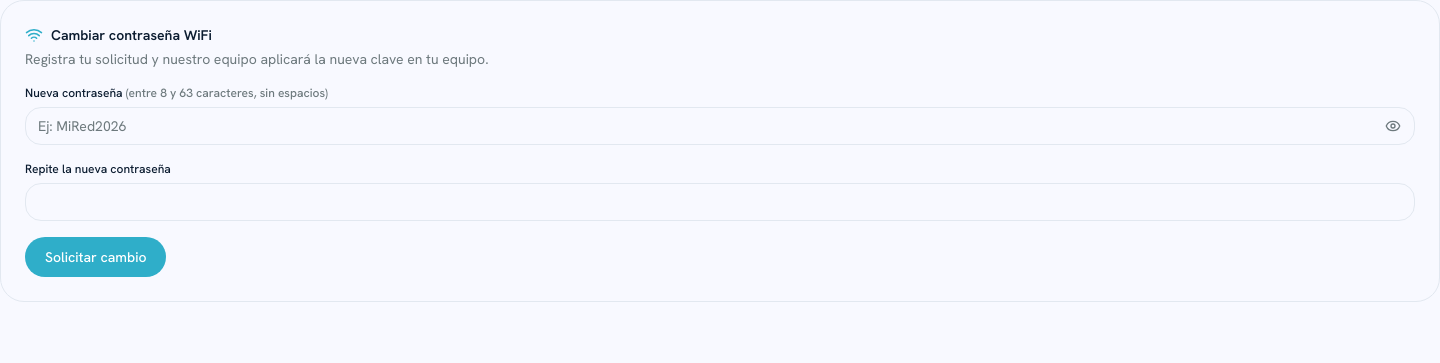
Scenario: WifiPasswordSection (CU-31 / CU-32) › rechaza la clave más corta que el mínimo
In the password field labelled "Nueva contraseña (entre 8 y 63 caracteres, sin espacios)": x=720, y=126 [25, 107, 1415, 145], type "Corta1"
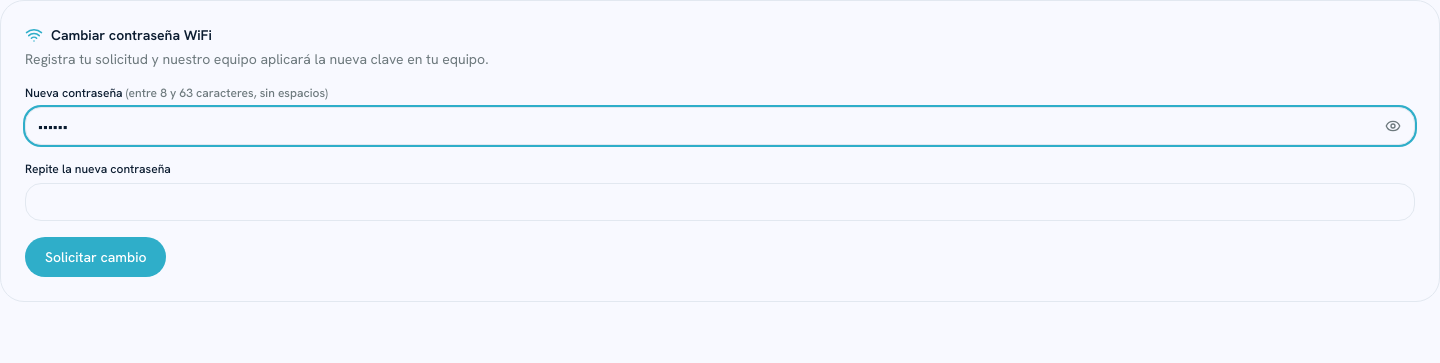
Click the button "Solicitar cambio": x=96, y=257 [25, 237, 166, 277]
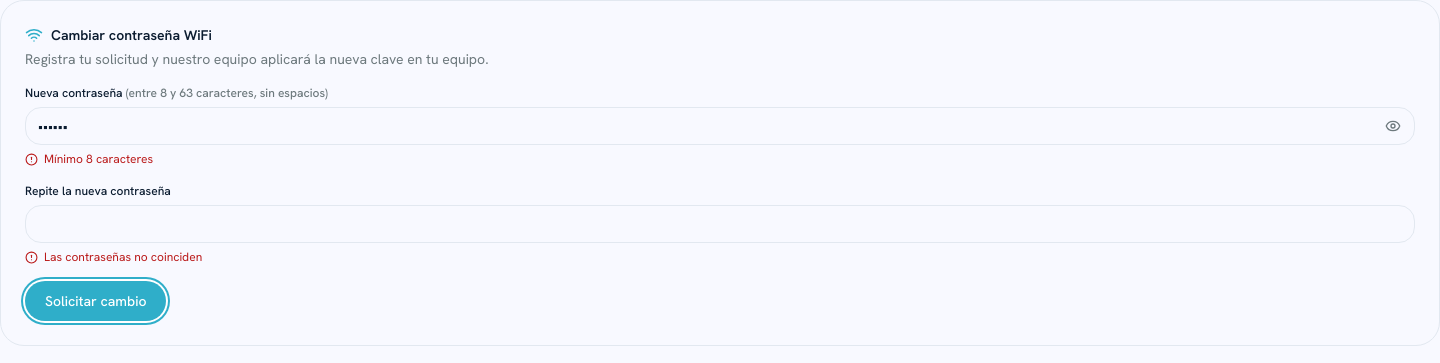
Expected: the text "Mínimo 8 caracteres" is shown, [25, 151, 153, 167]
